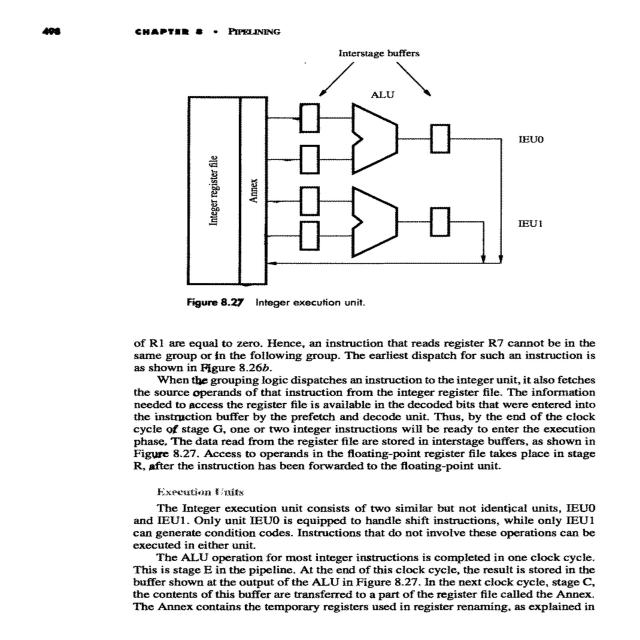diagram: (94, 40, 577, 318)
